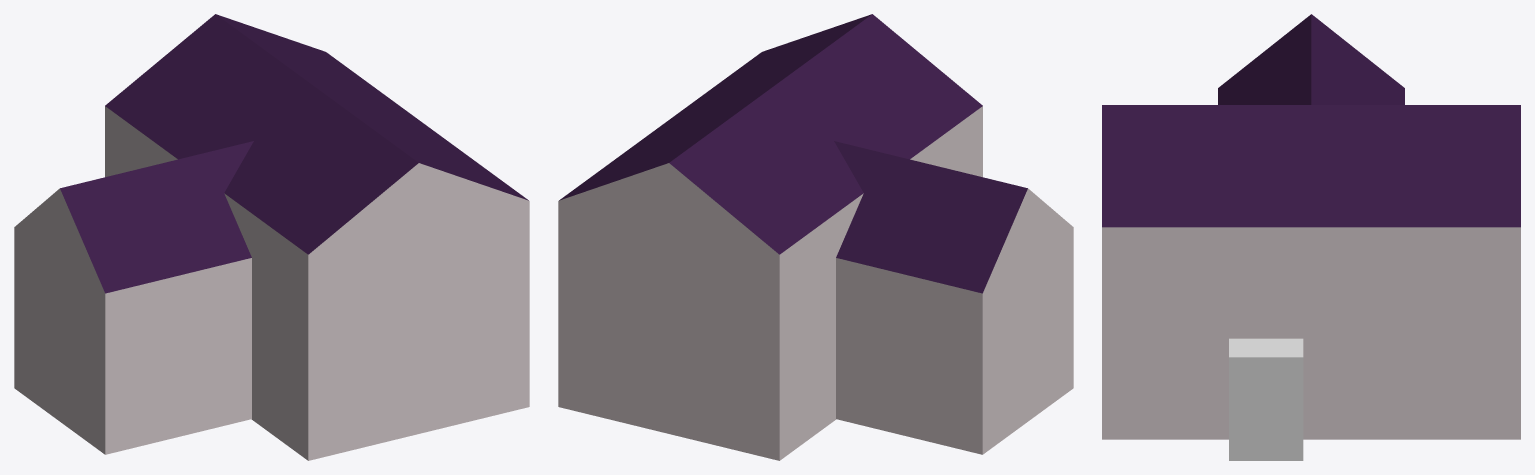
The model's file is house_ca.glb.
The picture shows the model from 3 angles, left to right: view 1: azimuth 30°, elevation 25°; view 2: azimuth 150°, elevation 25°; view 3: azimuth 270°, elevation 25°; orthographic projection. The views are drawn at different scales.
Visible parts, largest first — view 1: house_col.001, house_col.002; view 2: house_col.001, house_col.002; view 3: house_col.001, house_col.002, hole-noimp.
Part boxes in pixels (bbox=[...]): house_col.001: bbox=[105, 14, 529, 460]; house_col.002: bbox=[14, 141, 253, 454]; house_col.001: bbox=[558, 14, 982, 460]; house_col.002: bbox=[834, 141, 1073, 454]; house_col.001: bbox=[1102, 105, 1520, 439]; house_col.002: bbox=[1218, 14, 1404, 104]; hole-noimp: bbox=[1229, 338, 1303, 460].
Size of what is drawn, in the model's own units: 8.89 by 5.73 by 7.73.
